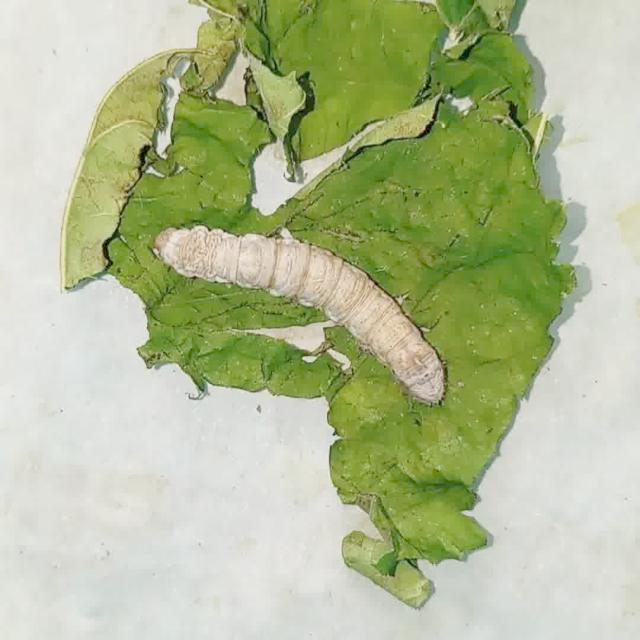Grasserie: (150, 210, 458, 408)
